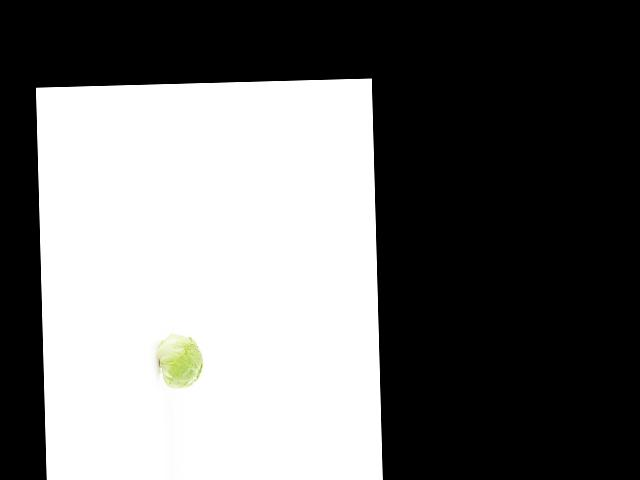lettuce: (159, 332, 205, 395)
